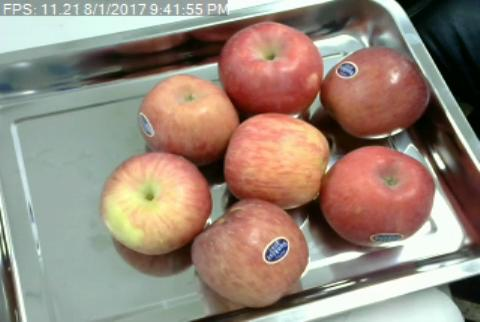apple: (192, 200, 310, 307), (322, 144, 434, 248), (98, 153, 213, 254), (224, 111, 331, 208), (321, 50, 430, 138), (218, 21, 321, 114), (138, 73, 238, 156)
